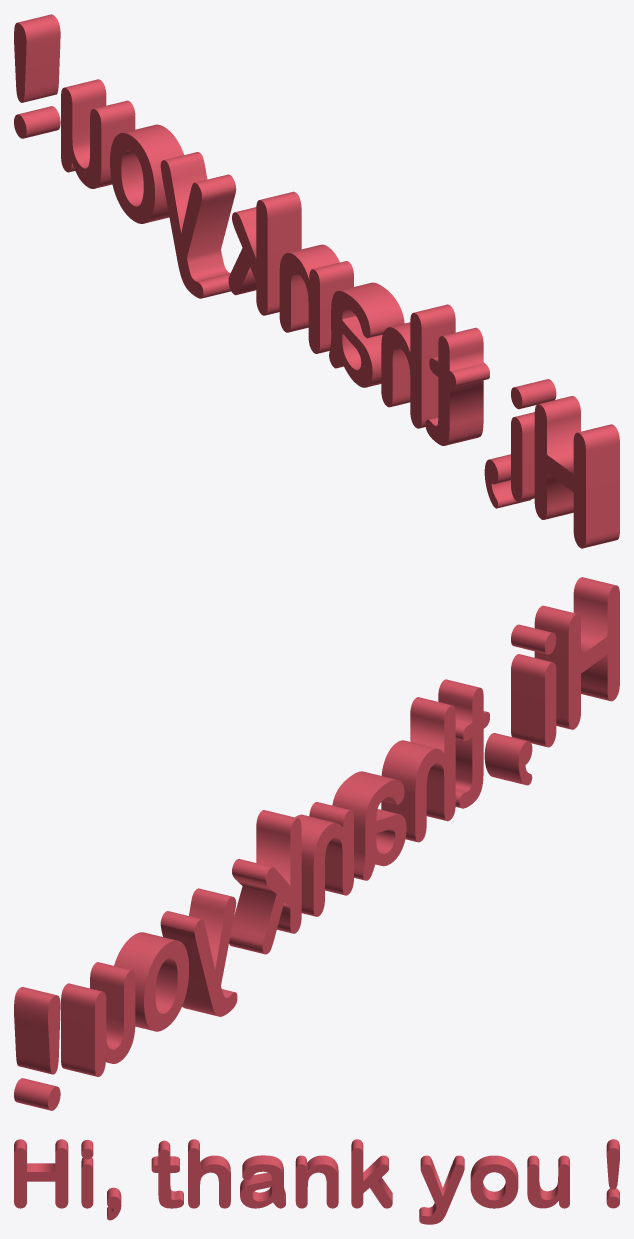
File: thankyou.glb
The picture shows the model from 3 angles, top to bottom: view 1: azimuth 30°, elevation 25°; view 2: azimuth 150°, elevation 25°; view 3: azimuth 270°, elevation 25°; orthographic projection. The views are drawn at different scales.
Parts seen in each view (by area): view 1: 文本; view 2: 文本; view 3: 文本.
Part boxes in pixels (x1,y1,x2,y2): 文本: [14, 14, 619, 548]; 文本: [14, 577, 619, 1110]; 文本: [14, 1139, 619, 1224].
Size of the model in its own units: 0.2 by 0.8105 by 5.82.
